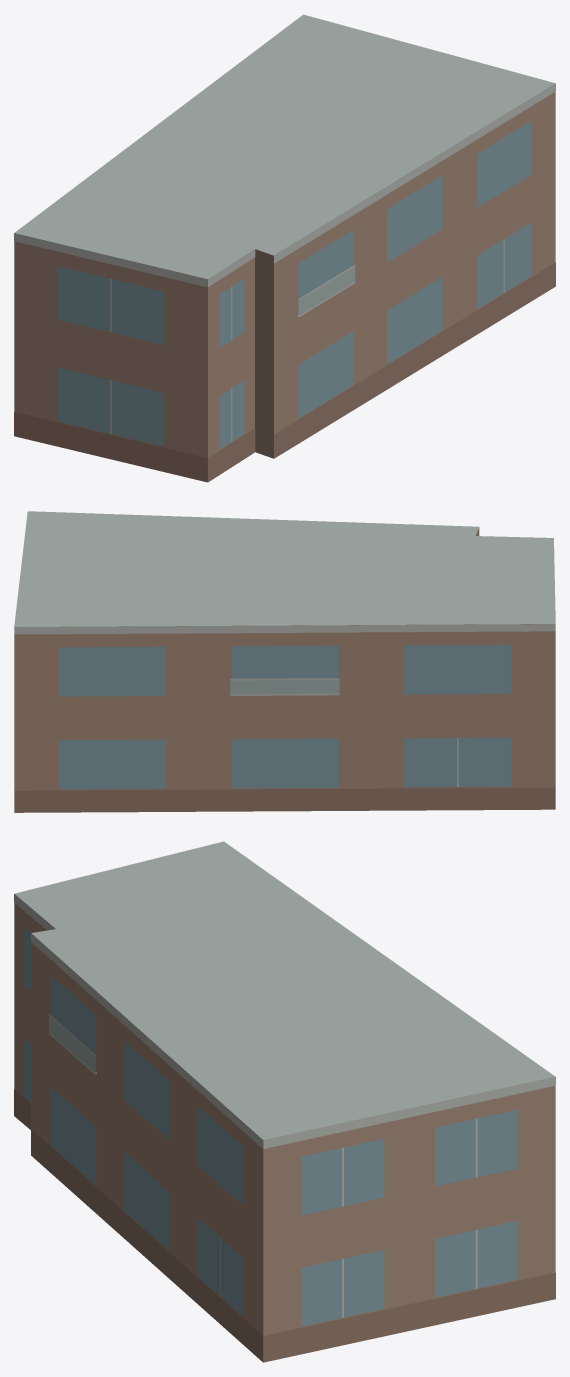
The model's file is survey-upis-32480319.glb.
The picture shows the model from 3 angles, top to bottom: view 1: azimuth 30°, elevation 25°; view 2: azimuth 150°, elevation 25°; view 3: azimuth 270°, elevation 25°; orthographic projection. The views are drawn at different scales.
Parts seen in each view (by area): view 1: survey-upis-32480319.tmp; view 2: survey-upis-32480319.tmp; view 3: survey-upis-32480319.tmp.
Part boxes in pixels (x1,y1,x2,y2): survey-upis-32480319.tmp: [14, 14, 555, 482]; survey-upis-32480319.tmp: [14, 511, 555, 812]; survey-upis-32480319.tmp: [14, 841, 555, 1362].
Bounding box in the file's own units: 17.6 × 6.1 × 13.48.
